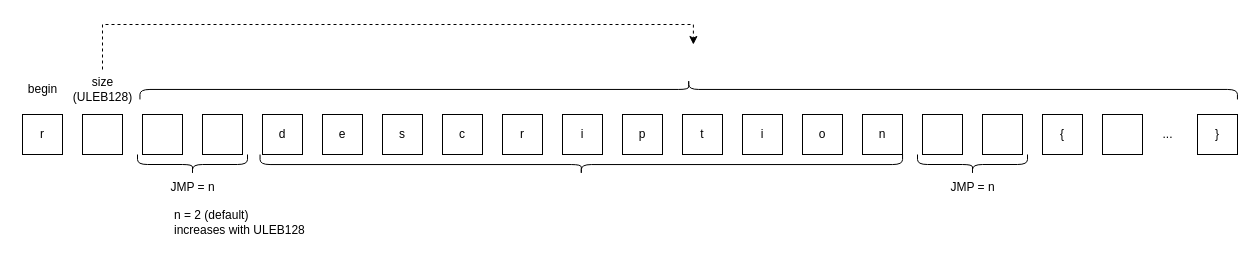
Image size: 1255x260. Some labels were removed from this diagram. The shapes that lost their labels are listed below. From the top down, each one's centre as x and y in pixels, then its label:
the point at 688,89: size
the point at 580,164: key.size()
